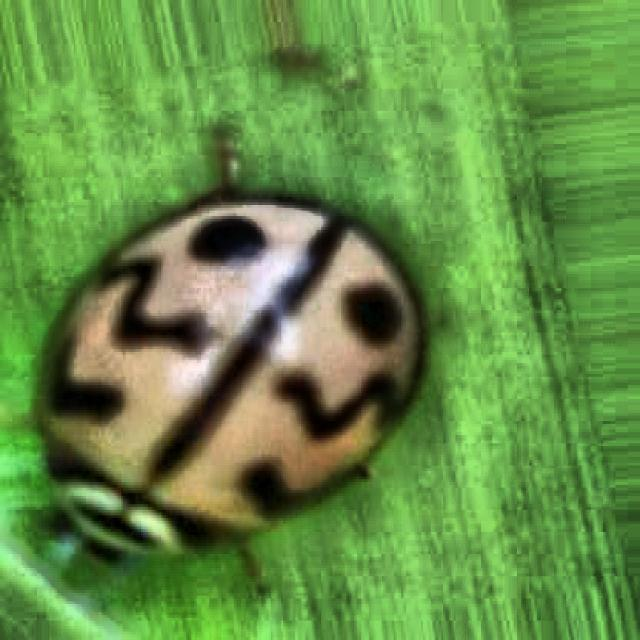Asian-Lady-beetle: (31, 114, 491, 635)
